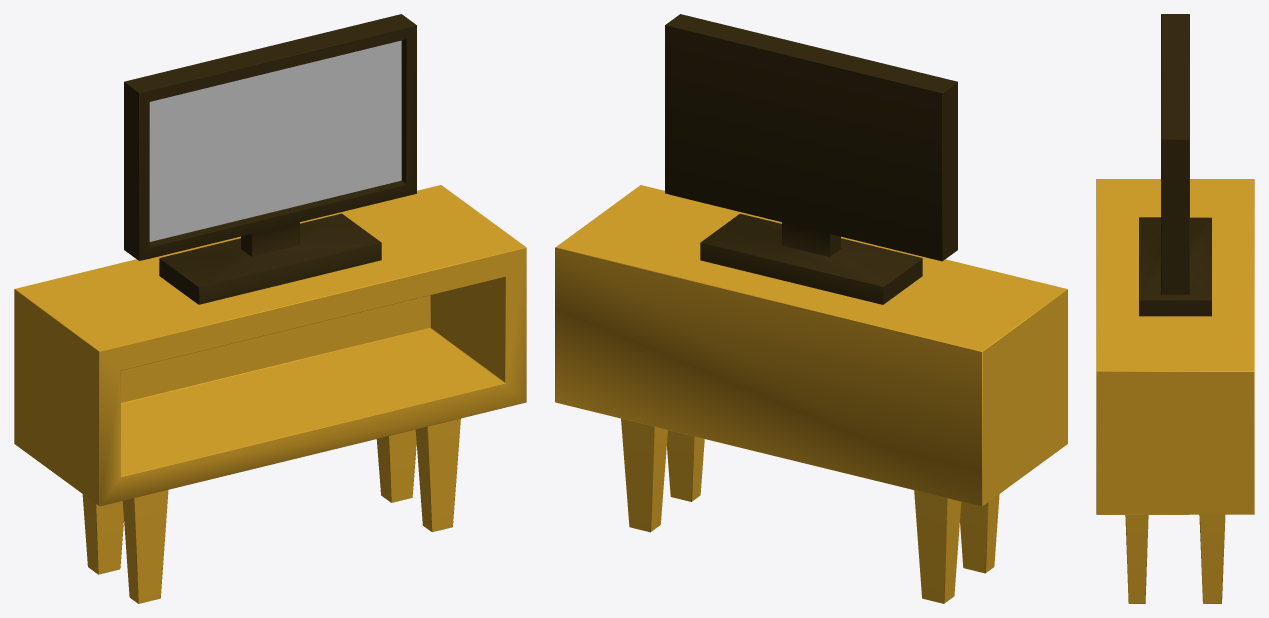
The model's file is Desk_Med_TV_3D_Model.fbx.
3 renders of one model, left to right at view 1: azimuth 30°, elevation 25°; view 2: azimuth 150°, elevation 25°; view 3: azimuth 270°, elevation 25°, orthographic. The views are drawn at different scales.
Parts seen in each view (by area): view 1: Desk_Med_TV; view 2: Desk_Med_TV; view 3: Desk_Med_TV.
Boxes of the visible parts, box(x1,y1,x2,y2) form: Desk_Med_TV: box(14, 14, 526, 603); Desk_Med_TV: box(555, 14, 1067, 603); Desk_Med_TV: box(1096, 14, 1254, 603).
Size of the model in its own units: 9.39 by 10.37 by 3.26.
